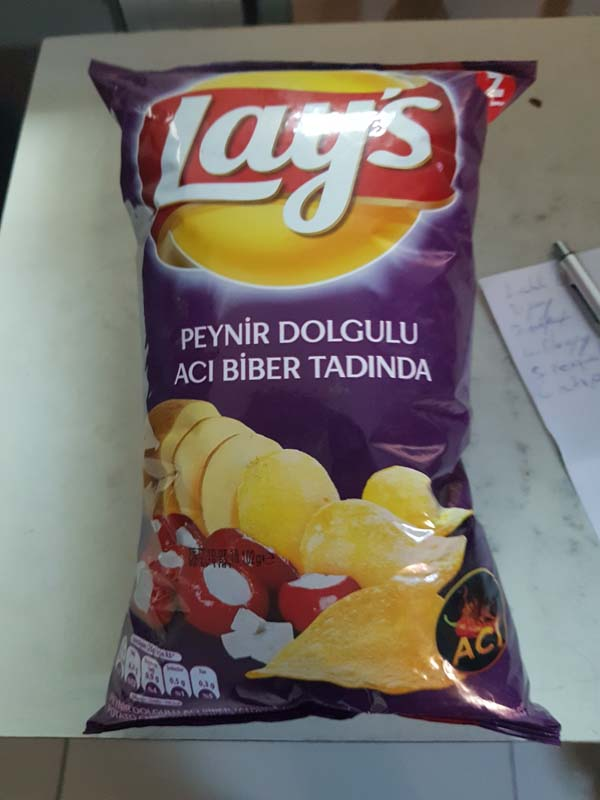layspeynirsoslu: (87, 55, 559, 744)
